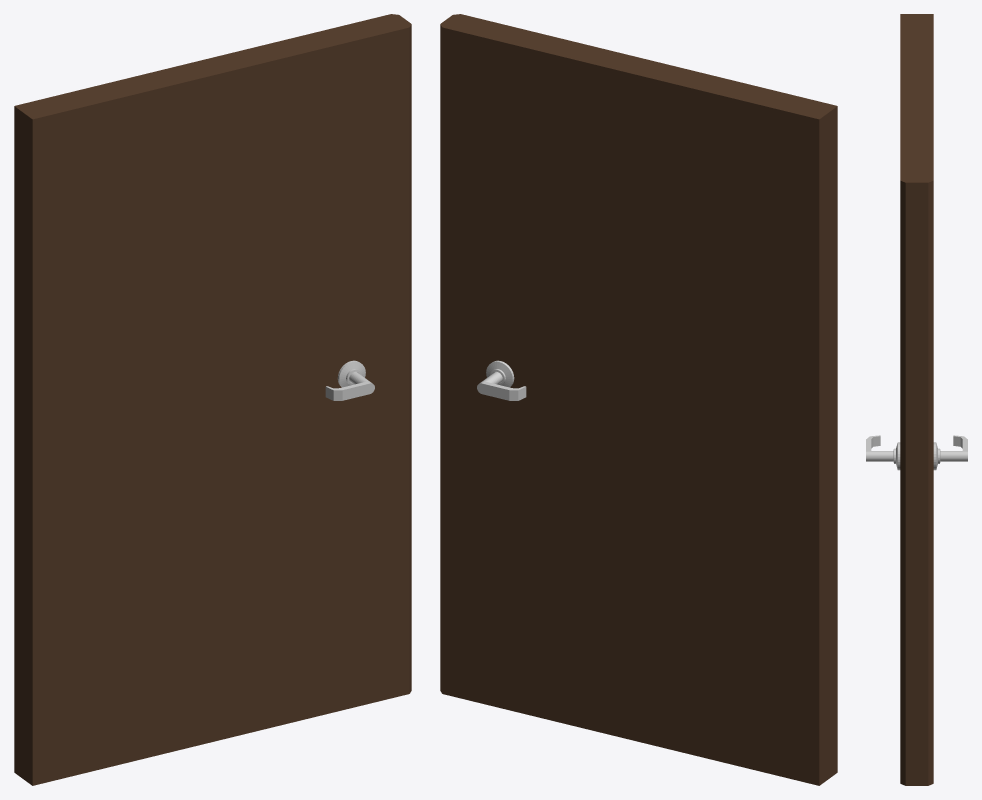
Rendered from OfficeDoor2.fbx.
3 views of the same model, side by side, from view 1: azimuth 30°, elevation 25°; view 2: azimuth 150°, elevation 25°; view 3: azimuth 270°, elevation 25° (orthographic). The views are drawn at different scales.
Parts seen in each view (by area): view 1: Door, DoorKnob; view 2: Door, DoorKnob; view 3: Door, DoorKnob, DoorKnobPlate.
Boxes of the visible parts, bbox=[...] form: Door: bbox=[14, 14, 411, 785]; DoorKnob: bbox=[325, 371, 374, 400]; Door: bbox=[440, 14, 837, 785]; DoorKnob: bbox=[477, 371, 526, 400]; Door: bbox=[900, 14, 933, 785]; DoorKnob: bbox=[866, 435, 967, 461]; DoorKnobPlate: bbox=[893, 442, 940, 470].
Bounding box in the file's own units: 300 × 500 × 76.4.
